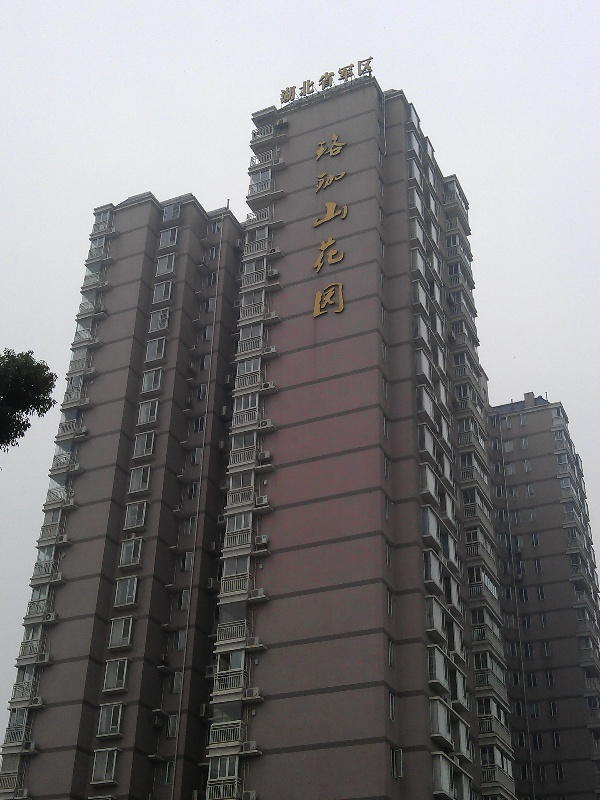text: (321, 125, 336, 322), (337, 125, 351, 322), (315, 125, 320, 322), (289, 54, 304, 108), (305, 54, 320, 108), (321, 54, 336, 108), (337, 54, 352, 108), (353, 54, 368, 108), (279, 54, 288, 108), (369, 54, 375, 108)
